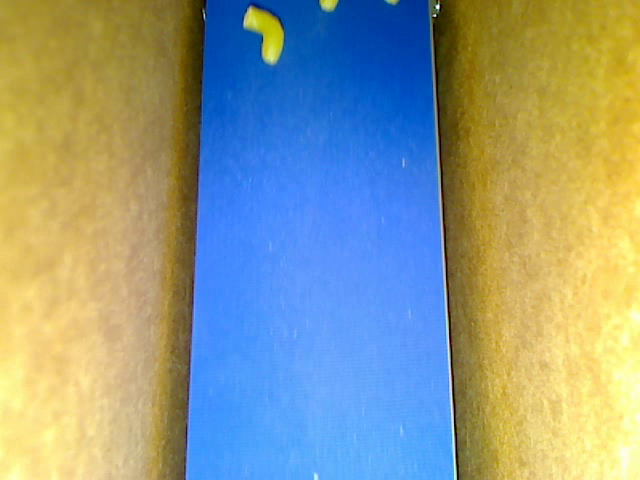elbow: (242, 6, 283, 64)
